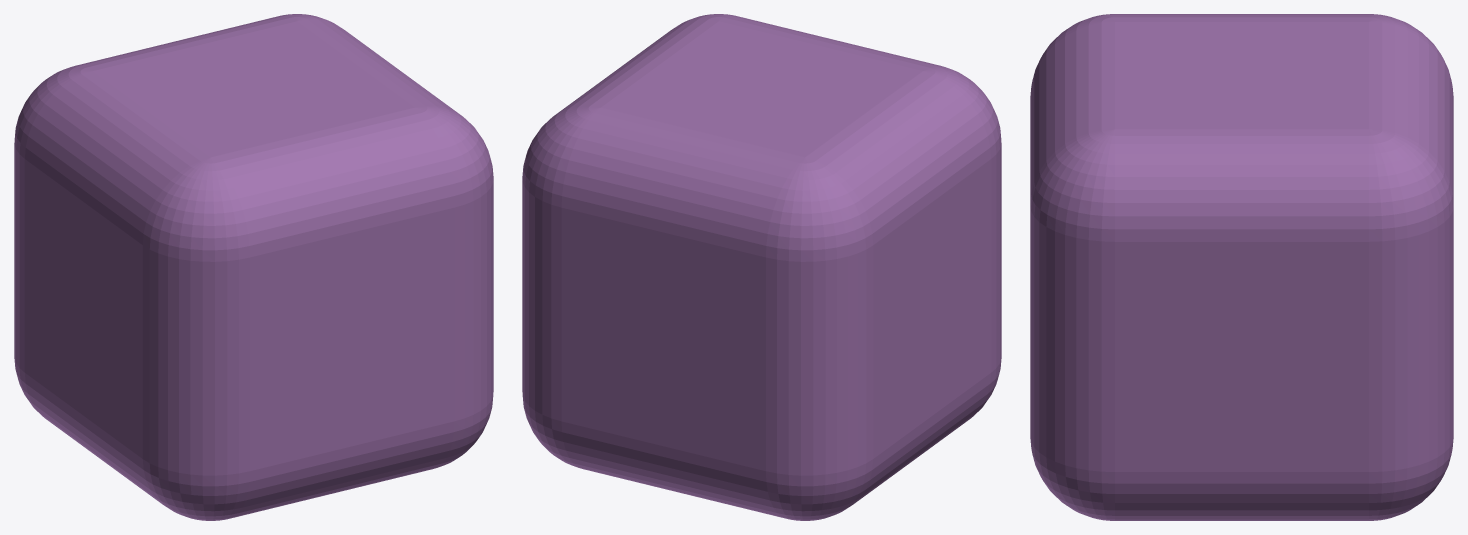
File: cube-chargedup.glb
3 views of the same model, side by side, from view 1: azimuth 30°, elevation 25°; view 2: azimuth 150°, elevation 25°; view 3: azimuth 270°, elevation 25° (orthographic). The views are drawn at different scales.
Parts seen in each view (by area): view 1: Mesh_Mesh_head_geo.001_lambert2SG.001; view 2: Mesh_Mesh_head_geo.001_lambert2SG.001; view 3: Mesh_Mesh_head_geo.001_lambert2SG.001.
Part boxes in pixels (x1=…): Mesh_Mesh_head_geo.001_lambert2SG.001: x1=14, y1=14, x2=493, y2=520; Mesh_Mesh_head_geo.001_lambert2SG.001: x1=522, y1=14, x2=1001, y2=520; Mesh_Mesh_head_geo.001_lambert2SG.001: x1=1030, y1=14, x2=1453, y2=520.
Bounding box in the file's own units: 0.01 × 0.01 × 0.01.
